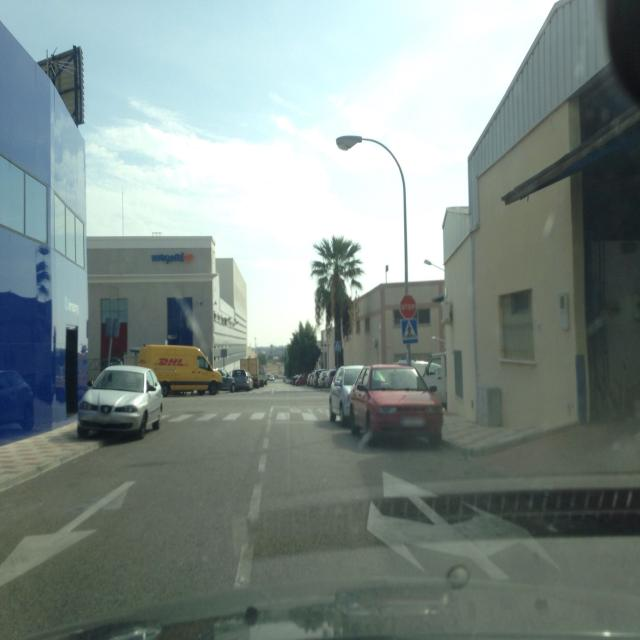car: (348, 363, 444, 445), (76, 364, 164, 440), (0, 368, 35, 438), (328, 365, 366, 424), (230, 368, 252, 392), (323, 368, 337, 388), (306, 371, 315, 387), (296, 374, 307, 386)
